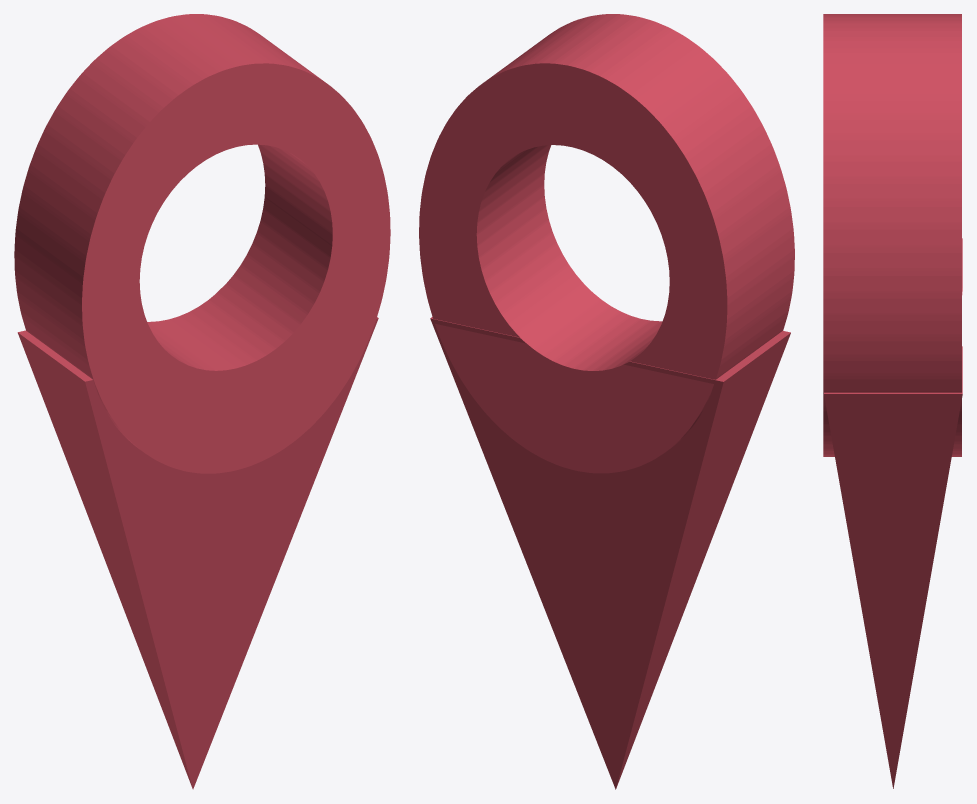
3 renders of one model, left to right at view 1: azimuth 30°, elevation 25°; view 2: azimuth 150°, elevation 25°; view 3: azimuth 270°, elevation 25°, orthographic. The views are drawn at different scales.
Visible parts, largest first — view 1: Mesh_Mesh_head_geo.001_lambert2SG.001; view 2: Mesh_Mesh_head_geo.001_lambert2SG.001; view 3: Mesh_Mesh_head_geo.001_lambert2SG.001.
Boxes of the visible parts, box(x1,y1,x2,y2) form: Mesh_Mesh_head_geo.001_lambert2SG.001: box(14, 14, 390, 789); Mesh_Mesh_head_geo.001_lambert2SG.001: box(419, 14, 794, 789); Mesh_Mesh_head_geo.001_lambert2SG.001: box(823, 14, 962, 788).
Size of the model in its own units: 16 by 36.97 by 6.1.
